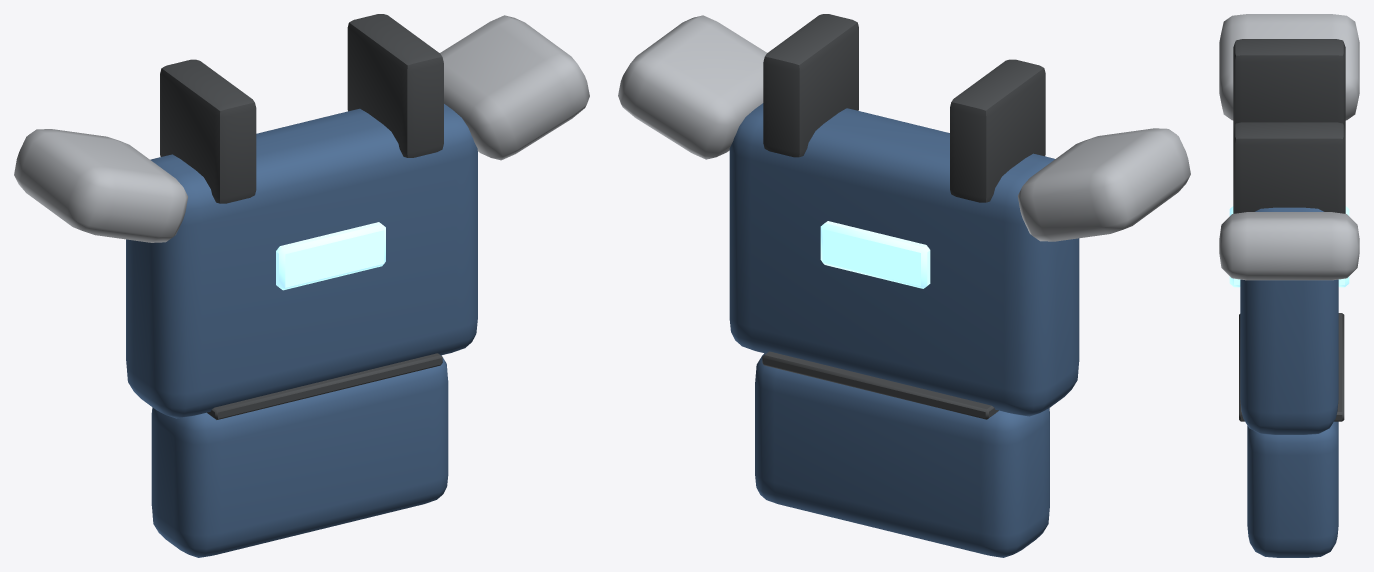
File: pk_armor.glb
3 views of the same model, side by side, from view 1: azimuth 30°, elevation 25°; view 2: azimuth 150°, elevation 25°; view 3: azimuth 270°, elevation 25° (orthographic). The views are drawn at different scales.
Visible parts, largest first — view 1: pk_armor; view 2: pk_armor; view 3: pk_armor.
Boxes of the visible parts, x1,y1,x2,y2 form: pk_armor: [14, 14, 589, 557]; pk_armor: [618, 14, 1190, 557]; pk_armor: [1219, 14, 1359, 557].
Bounding box in the file's own units: 0.7724 × 0.66 × 0.2.
